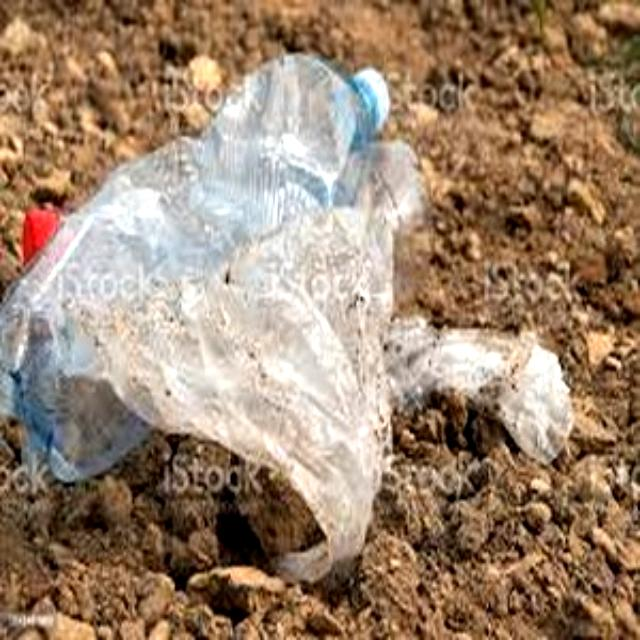Plastic: (1, 53, 393, 477)
